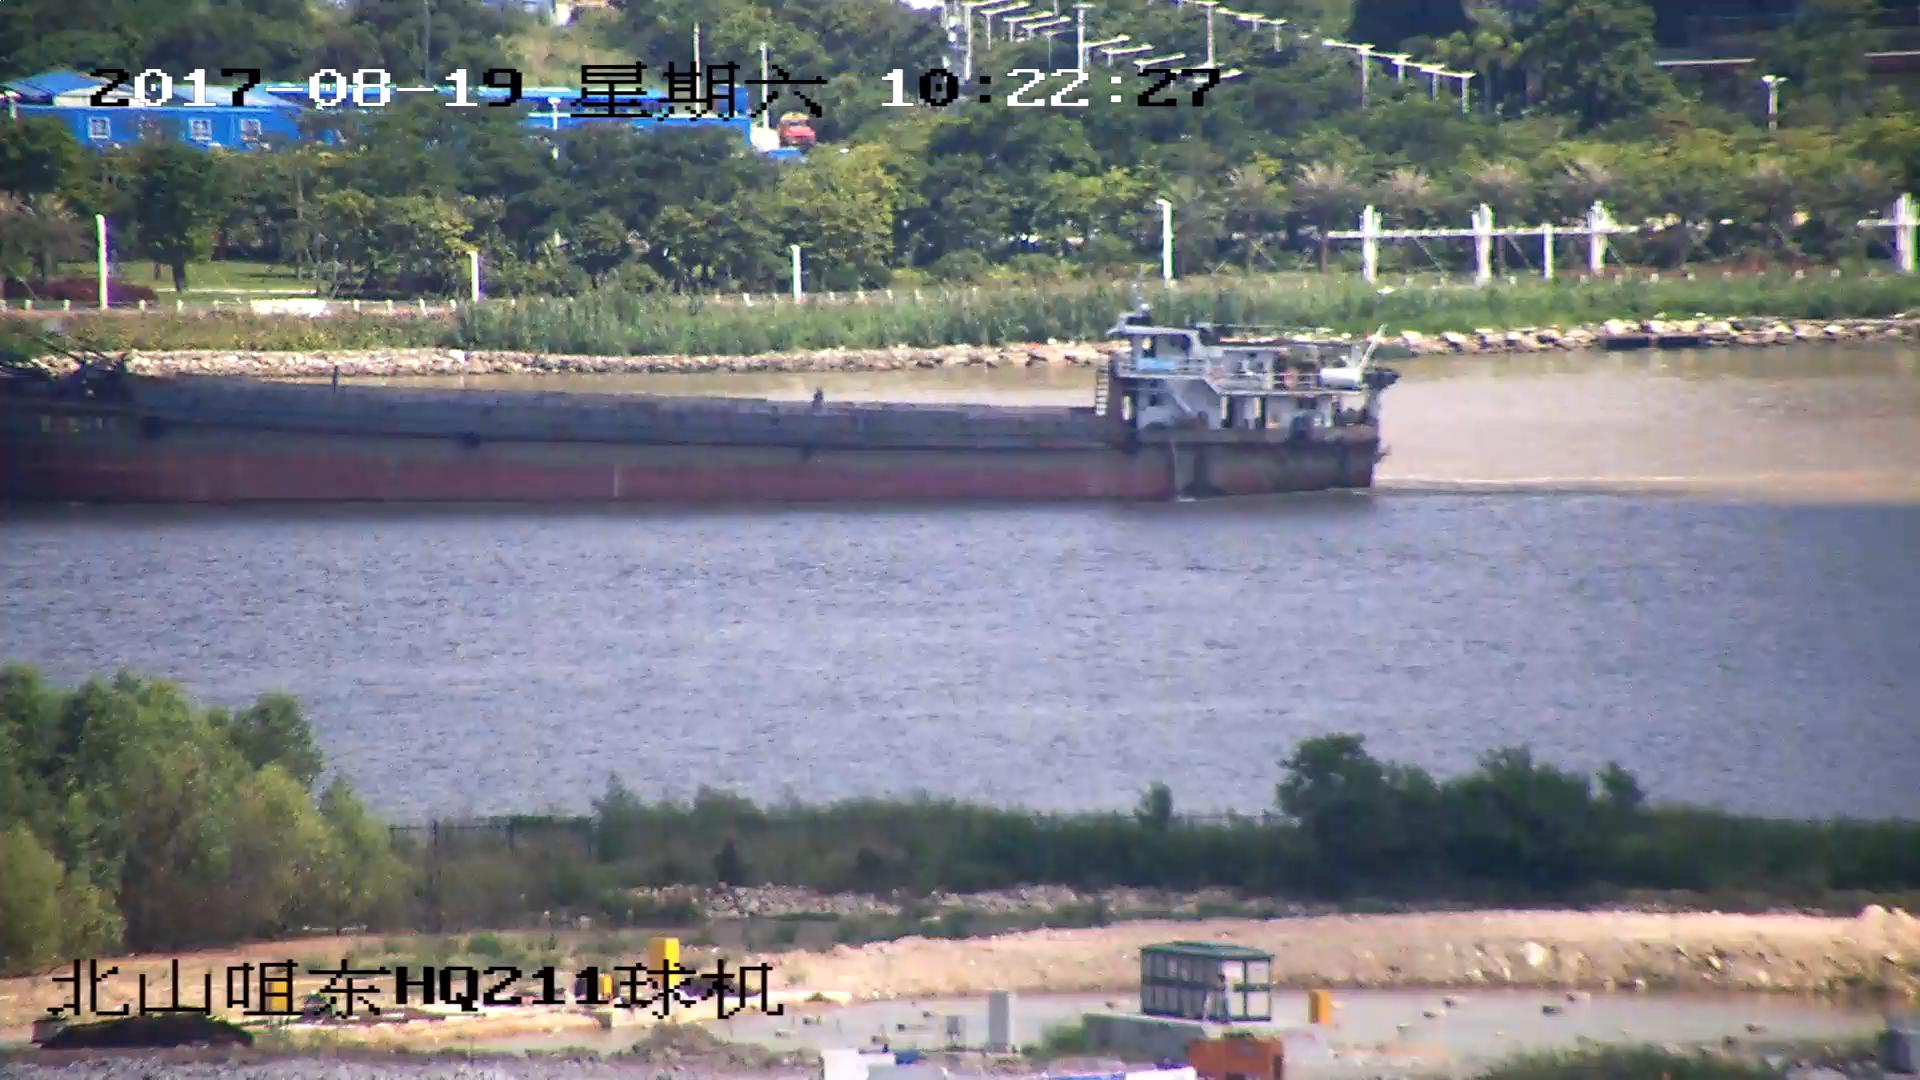bulk cargo carrier: (1, 302, 1375, 505)
